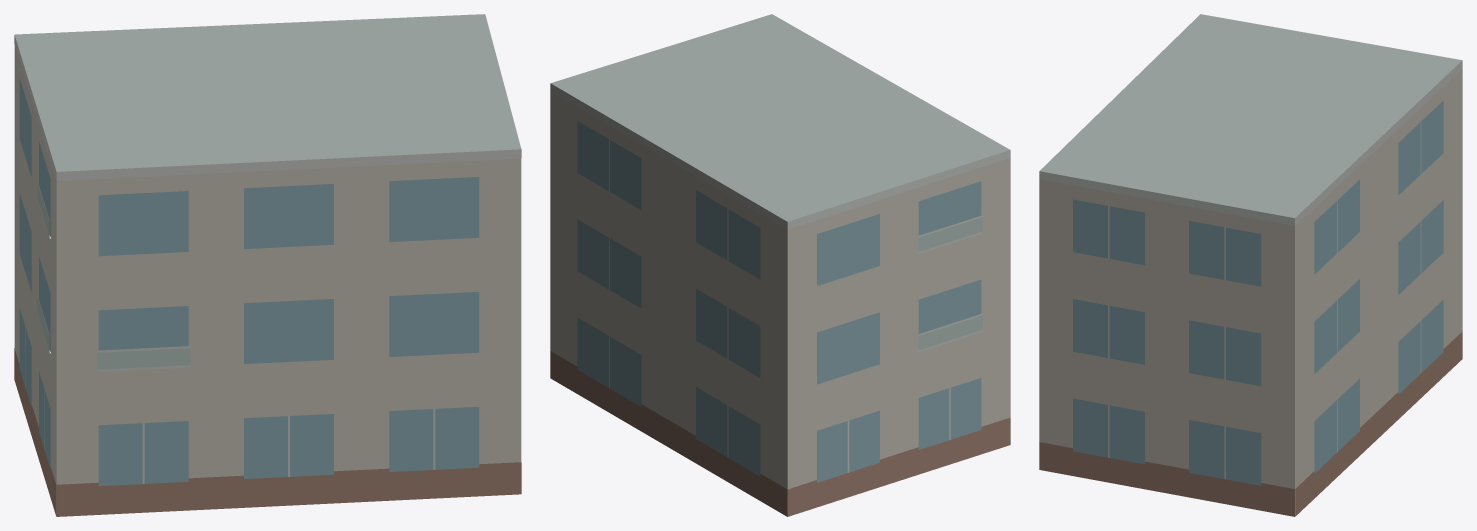
File: survey-upis-32567327.glb
The picture shows the model from 3 angles, left to right: view 1: azimuth 30°, elevation 25°; view 2: azimuth 150°, elevation 25°; view 3: azimuth 270°, elevation 25°; orthographic projection. The views are drawn at different scales.
Parts seen in each view (by area): view 1: survey-upis-32567327.tmp; view 2: survey-upis-32567327.tmp; view 3: survey-upis-32567327.tmp.
Part boxes in pixels (x1,y1,x2,y2): survey-upis-32567327.tmp: [14, 14, 521, 516]; survey-upis-32567327.tmp: [550, 14, 1010, 516]; survey-upis-32567327.tmp: [1039, 14, 1462, 516].
Size of the model in its own units: 13.43 by 9.15 by 11.76.
